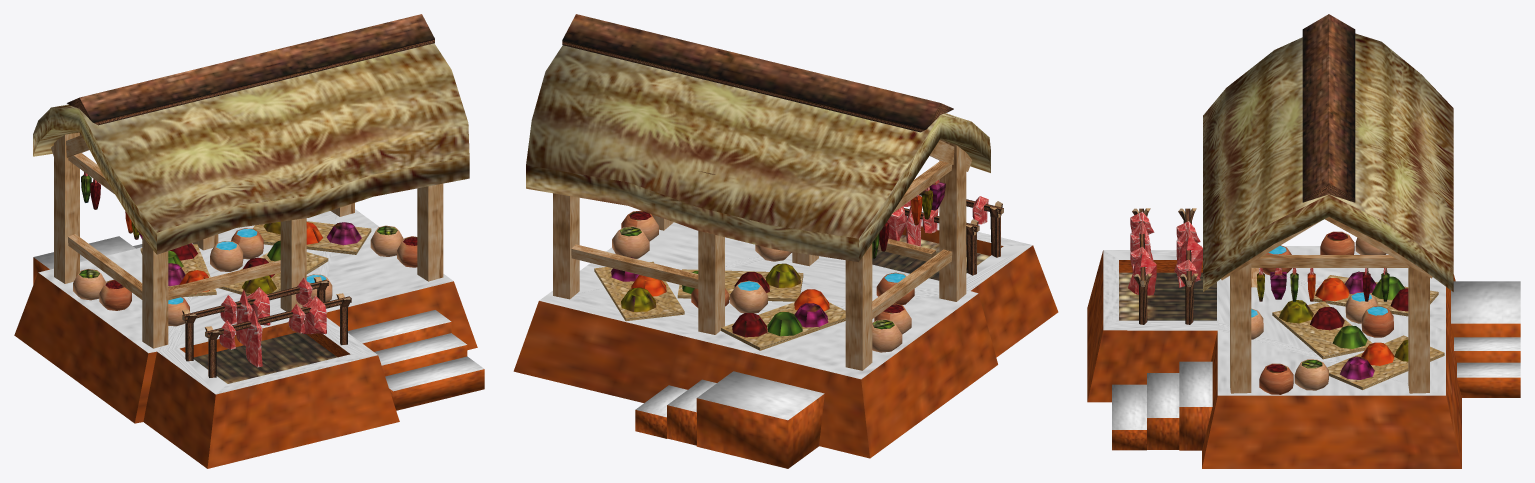
File: farmstead_1.dae
3 views of the same model, side by side, from view 1: azimuth 30°, elevation 25°; view 2: azimuth 150°, elevation 25°; view 3: azimuth 270°, elevation 25° (orthographic). The views are drawn at different scales.
Visible parts, largest first — view 1: farm_1; view 2: farm_1; view 3: farm_1.
Boxes of the visible parts, <box> form: farm_1: <box>14,14,484,468</box>; farm_1: <box>513,14,1058,468</box>; farm_1: <box>1087,14,1520,468</box>.
Size of the model in its own units: 12.84 by 13.7 by 10.11.
